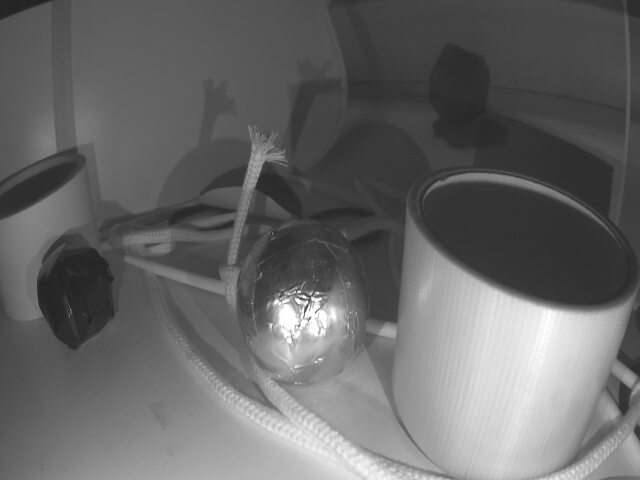Dead: (38, 246, 115, 344)
Live: (236, 219, 367, 385)
